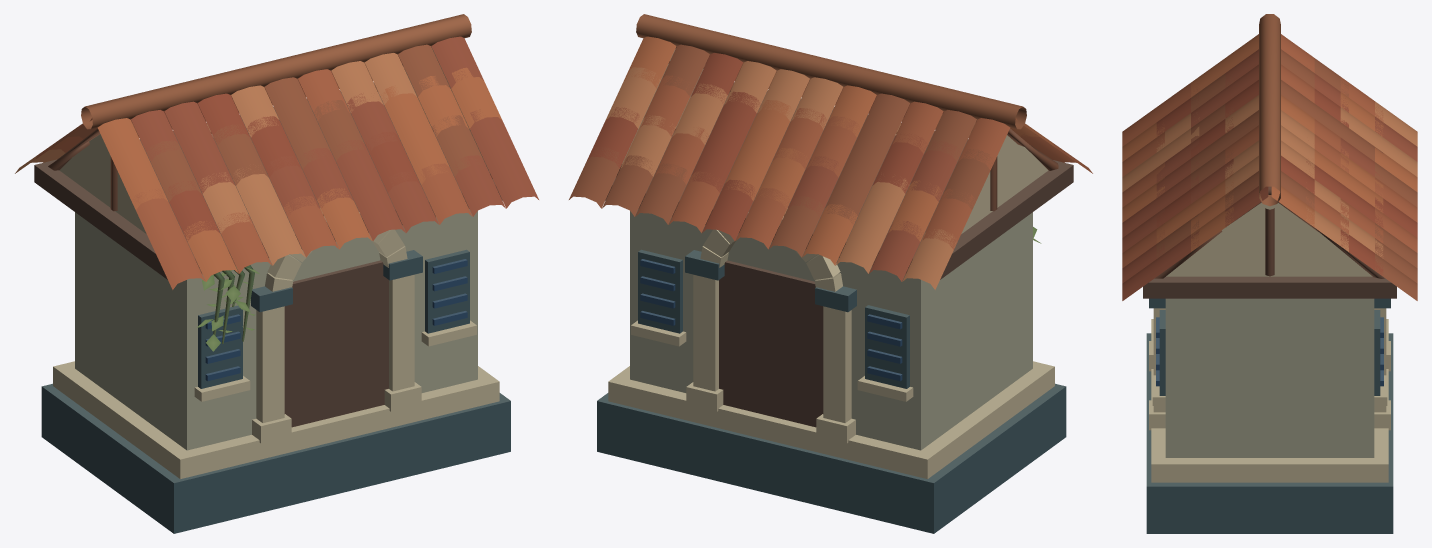
File: terracotta_gatehouse.glb
The picture shows the model from 3 angles, left to right: view 1: azimuth 30°, elevation 25°; view 2: azimuth 150°, elevation 25°; view 3: azimuth 270°, elevation 25°; orthographic projection. The views are drawn at different scales.
Parts seen in each view (by area): view 1: terracotta_gatehouse; view 2: terracotta_gatehouse; view 3: terracotta_gatehouse.
Boxes of the visible parts, x1=… form: terracotta_gatehouse: x1=15, y1=14, x2=538, y2=533; terracotta_gatehouse: x1=569, y1=14, x2=1092, y2=533; terracotta_gatehouse: x1=1122, y1=14, x2=1417, y2=533.
Size of the model in its own units: 3.44 by 3.32 by 2.49.
